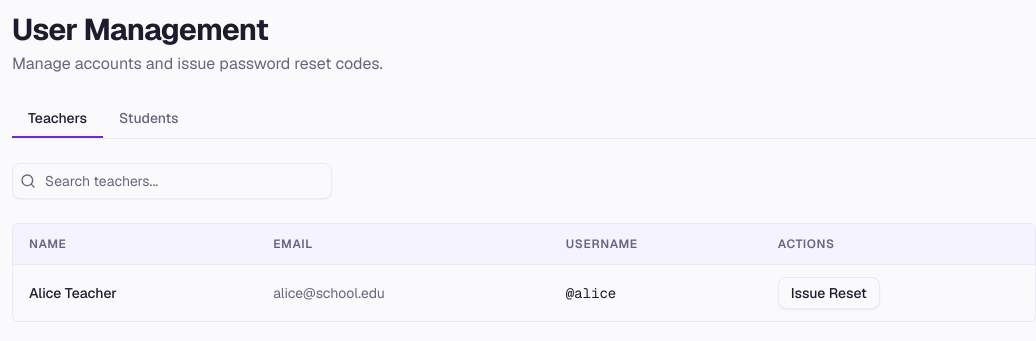
Scenario: StaffManagementView › shows 'No courses' for student with no courses
expect the text "Alice Teacher" is shown: met, box [13,264,257,321]
Click the button "Students": (149, 119) [103,100,195,138]
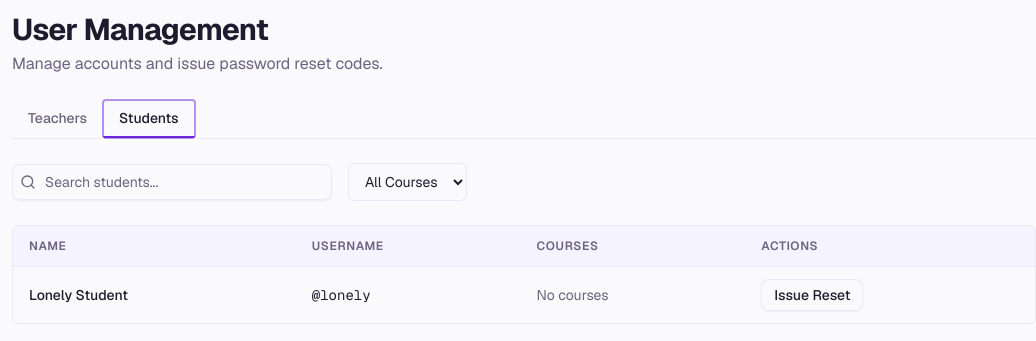
expect the text "No courses" is shown: met, box [520,266,745,323]
